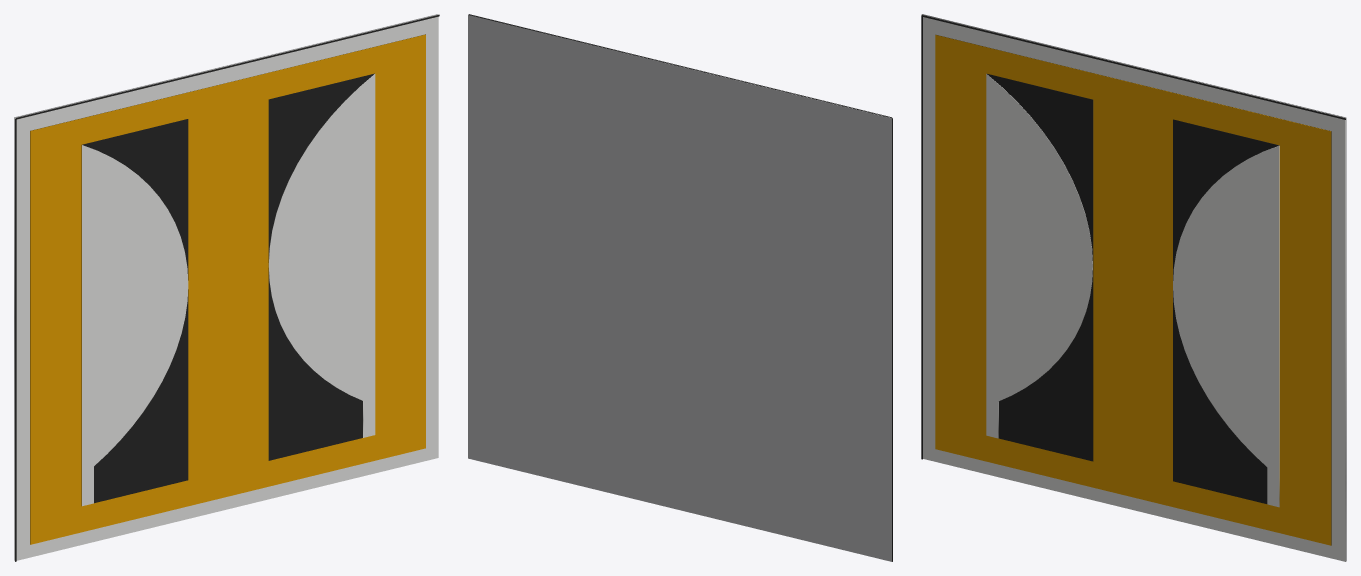
3 renders of one model, left to right at view 1: azimuth 30°, elevation 25°; view 2: azimuth 150°, elevation 25°; view 3: azimuth 330°, elevation 25°, orthographic.
Parts seen in each view (by area): view 1: ID16e_p07, ID16e_p11, ID16e_p09, ID16e_p01, ID16e_p08, ID16e_p10, ID16e_p04, ID16e_dos, ID16e_p02, ID16e_p06; view 2: ID16e_dos, ID16e_p00; view 3: ID16e_p07, ID16e_p11, ID16e_p09, ID16e_p01, ID16e_p08, ID16e_p10, ID16e_p04, ID16e_dos, ID16e_p02, ID16e_p06.
Boxes of the visible parts, box(x1,y1,x2,y2) form: ID16e_p07: box(30, 34, 425, 544); ID16e_p11: box(268, 74, 375, 437); ID16e_p09: box(82, 145, 188, 506); ID16e_p01: box(14, 14, 438, 560); ID16e_p08: box(81, 119, 188, 505); ID16e_p10: box(268, 73, 374, 460); ID16e_p04: box(16, 14, 439, 119); ID16e_dos: box(14, 14, 437, 560); ID16e_p02: box(15, 118, 16, 561); ID16e_p06: box(30, 34, 425, 544); ID16e_dos: box(468, 15, 891, 561); ID16e_p00: box(469, 14, 892, 561); ID16e_p07: box(935, 35, 1331, 545); ID16e_p11: box(1173, 145, 1279, 507); ID16e_p09: box(986, 74, 1092, 438); ID16e_p01: box(922, 14, 1345, 561); ID16e_p08: box(987, 74, 1093, 461); ID16e_p10: box(1173, 119, 1279, 503); ID16e_p04: box(922, 15, 1345, 119); ID16e_dos: box(922, 14, 1346, 561); ID16e_p02: box(921, 15, 922, 459); ID16e_p06: box(937, 35, 1331, 545).
Size of the model in its own units: 0.7 by 0.6997 by 0.0063.
